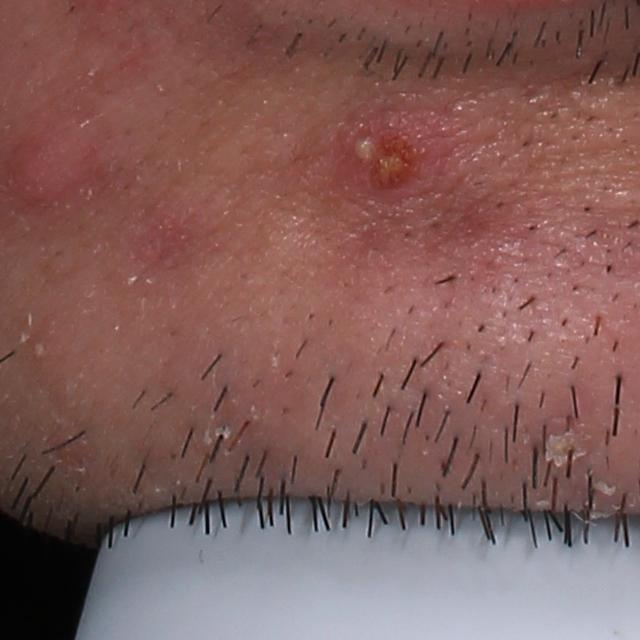pustule: (338, 103, 429, 192)
